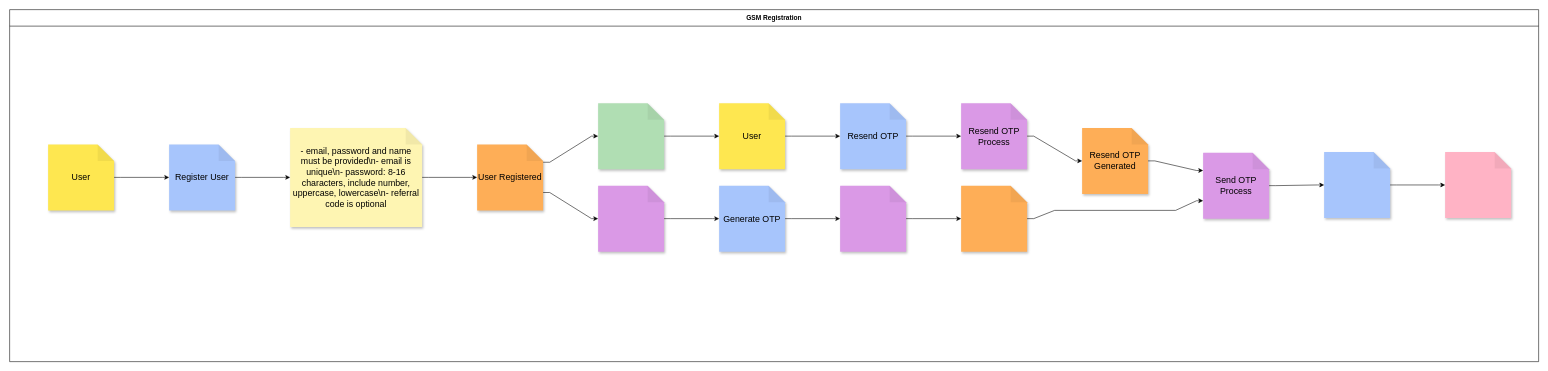
Image size: 1548x371. Some labels were removed from this diagram. The shapes that lost their labels are listed below. From the top down, each one's centre as x and y in pixels, then its label:
point (631, 137): Draft User Profile
point (1357, 185): Send OTP
point (1478, 185): Email Service
point (631, 219): Generate OTP Process
point (873, 219): Validate OTP Process
point (994, 219): Register OTP Generated
